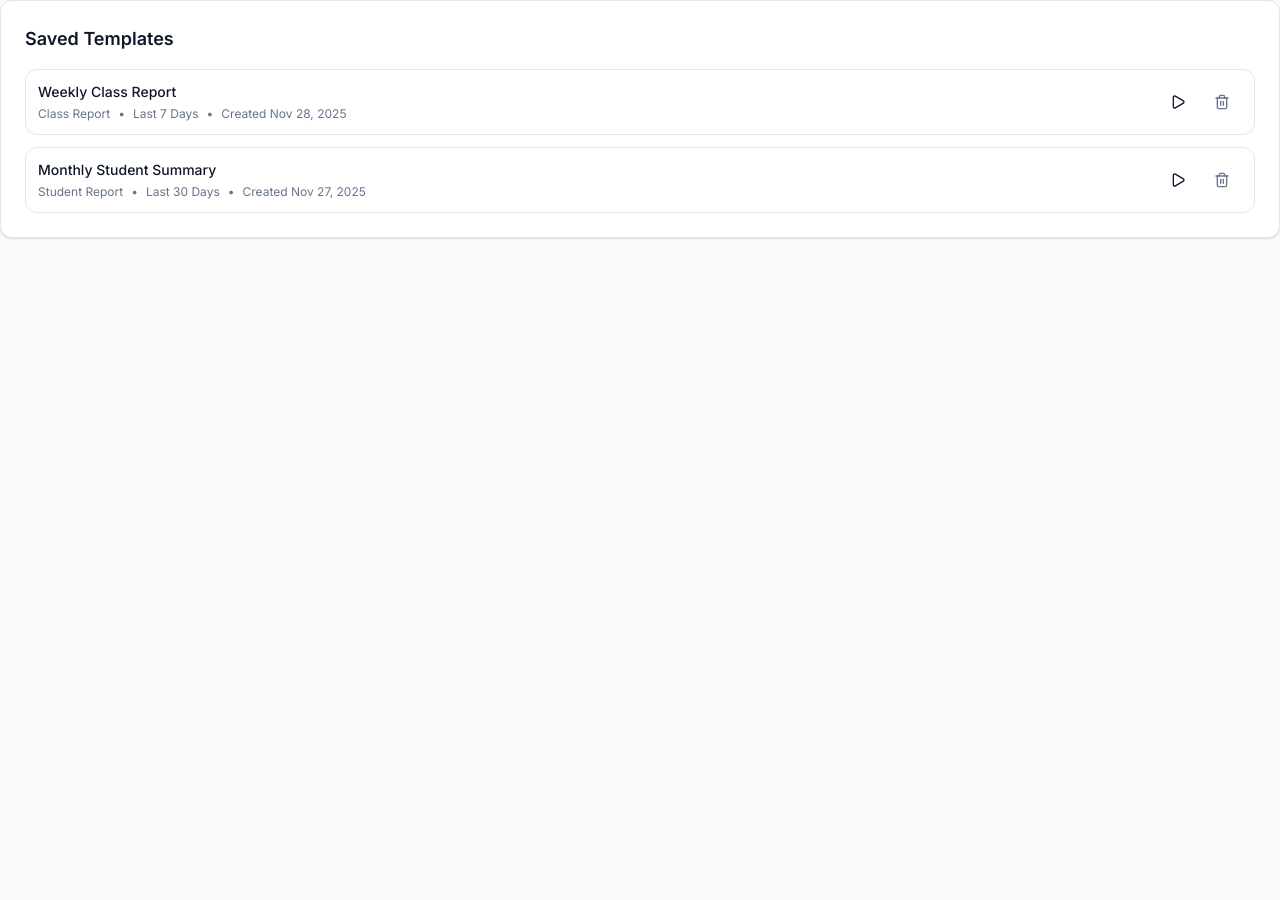
Test: SavedTemplates › opens delete confirmation dialog when delete button is clicked
This screenshot has width=1280, height=900.
Click delete button (second button in each template row)
Click the 2nd button.
click(1222, 102)  # box [1202,86,1242,118]
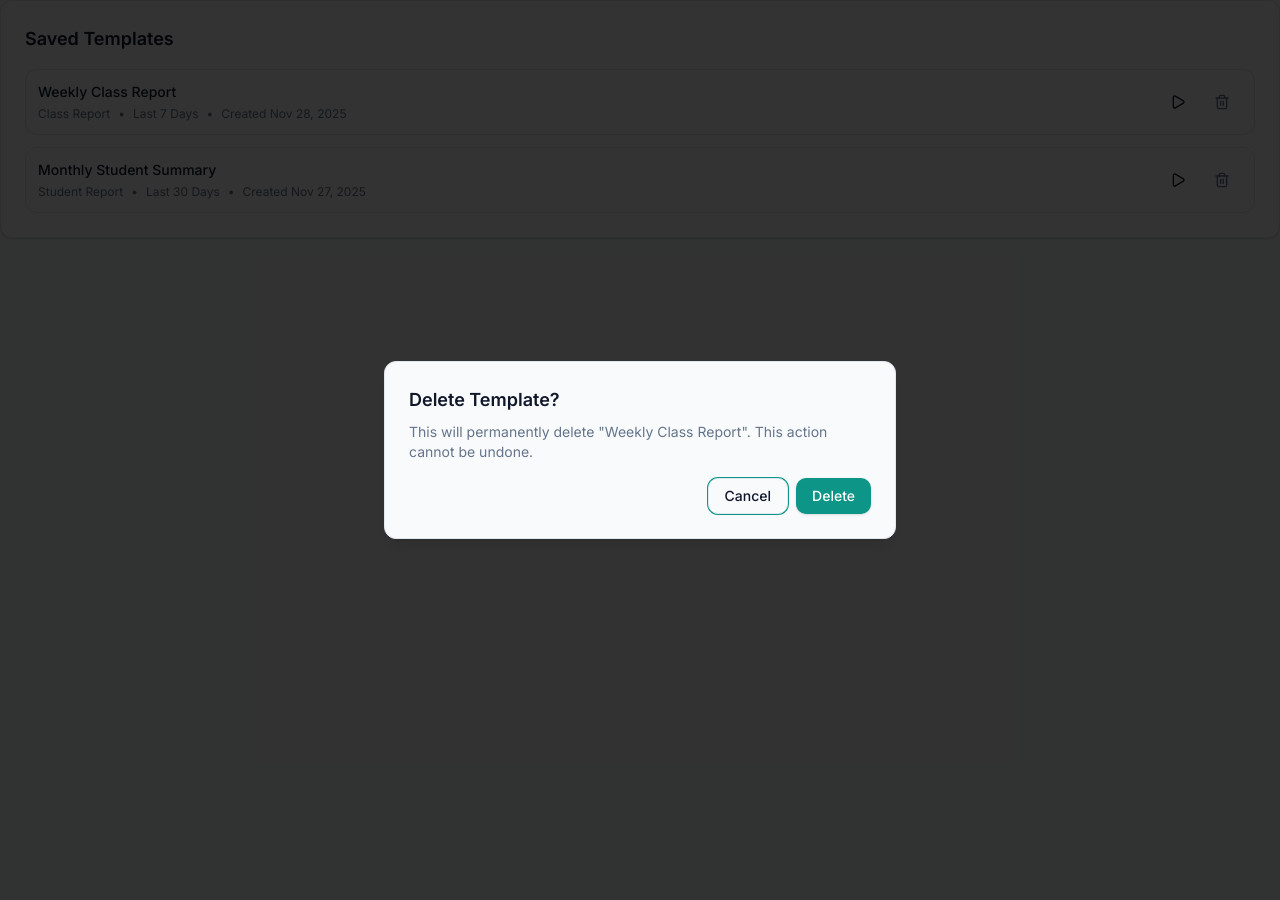
Now the heading "Delete Template?" is shown, box [409,389,560,410]
Now the text "This will permanently delete" is shown, box [409,423,605,440]
